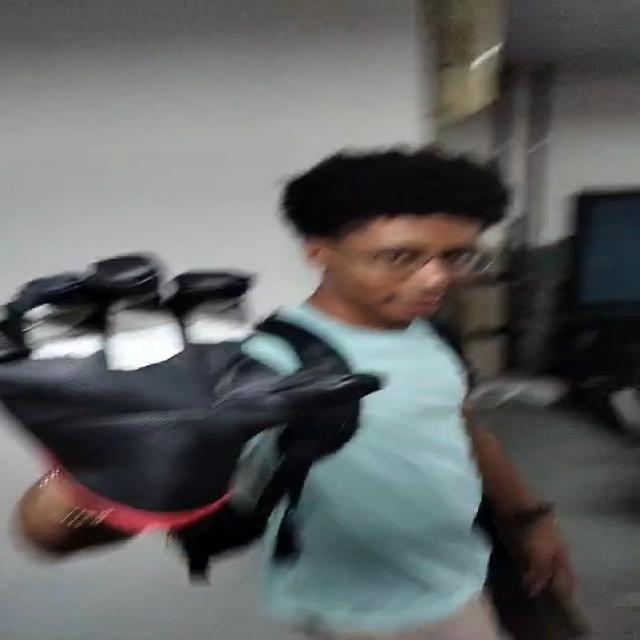Gloves: (3, 254, 382, 529)
